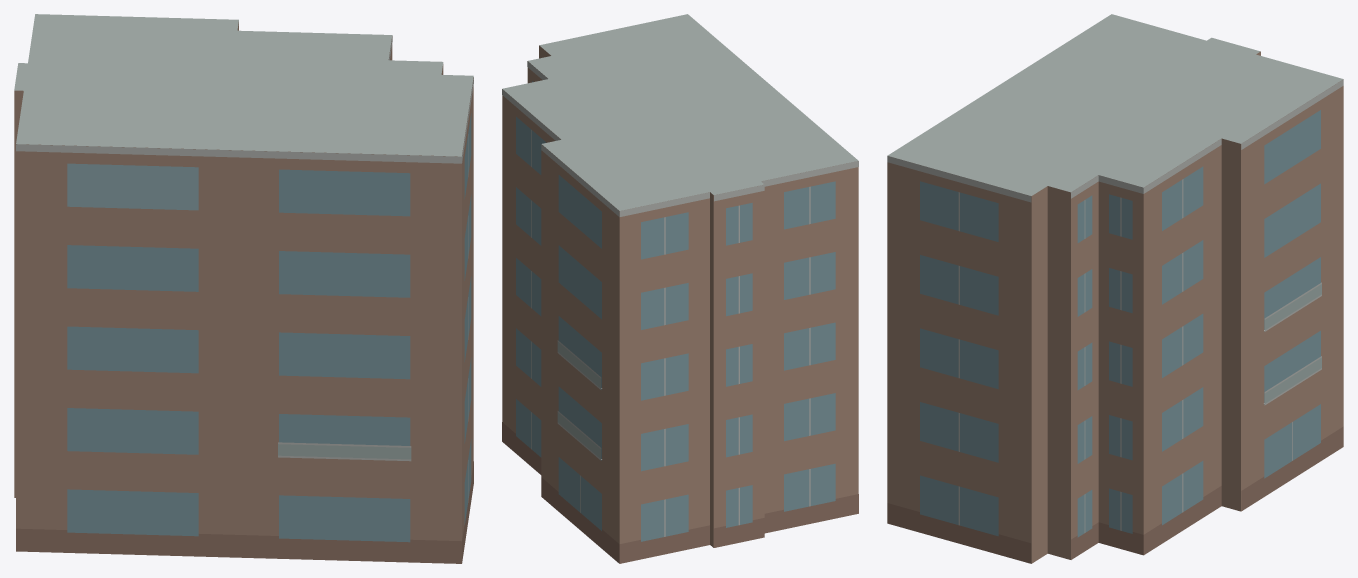
The model's file is survey-upis-32880006.glb.
3 views of the same model, side by side, from view 1: azimuth 30°, elevation 25°; view 2: azimuth 150°, elevation 25°; view 3: azimuth 270°, elevation 25° (orthographic). The views are drawn at different scales.
Visible parts, largest first — view 1: survey-upis-32880006.tmp; view 2: survey-upis-32880006.tmp; view 3: survey-upis-32880006.tmp.
Boxes of the visible parts, <box> form: survey-upis-32880006.tmp: <box>14,14,473,563</box>; survey-upis-32880006.tmp: <box>502,14,858,563</box>; survey-upis-32880006.tmp: <box>887,14,1343,563</box>.
Bounding box in the file's own units: 14.77 × 13.9 × 15.64.
